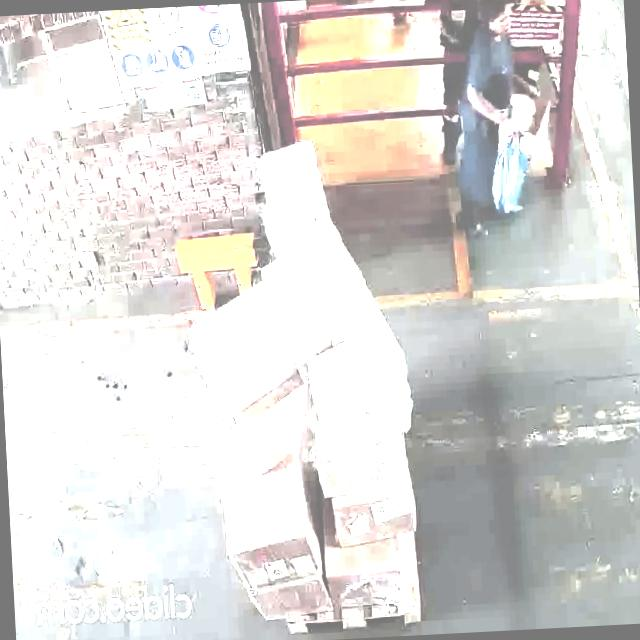Box: (310, 330, 416, 462), (192, 293, 292, 406), (224, 462, 312, 588), (280, 232, 348, 346), (241, 377, 315, 475), (260, 135, 330, 237), (321, 540, 403, 614), (329, 486, 416, 554), (316, 442, 406, 497), (248, 577, 328, 623)
